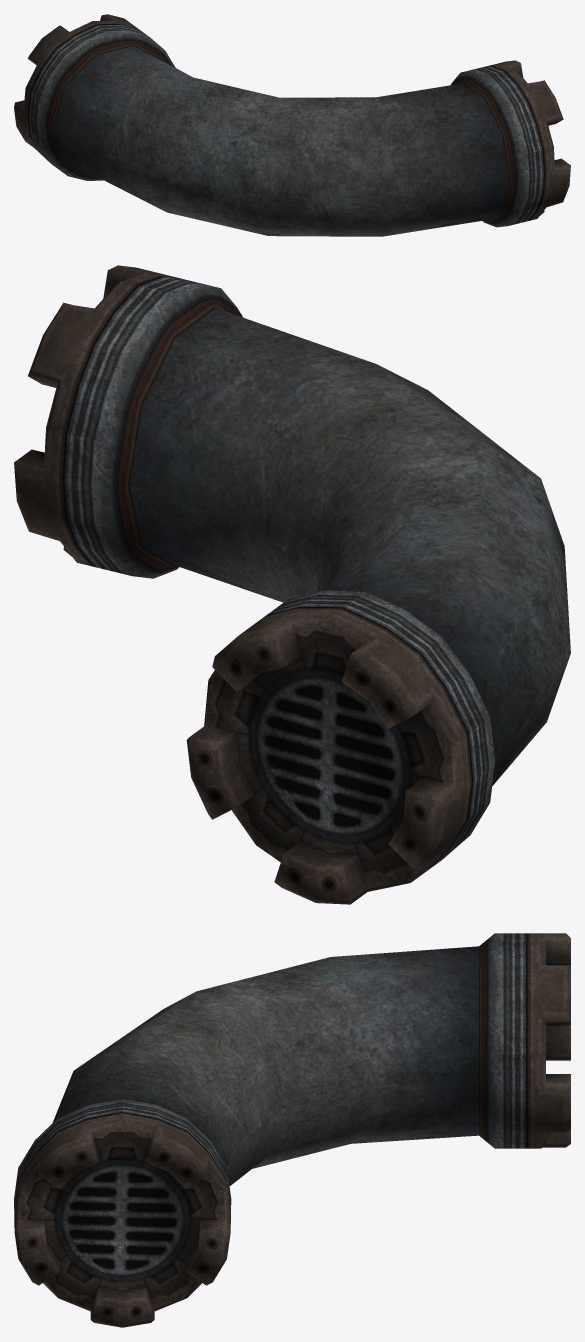
Rendered from tech_brown_bend_long.dae.
The picture shows the model from 3 angles, top to bottom: view 1: azimuth 30°, elevation 25°; view 2: azimuth 150°, elevation 25°; view 3: azimuth 270°, elevation 25°; orthographic projection. The views are drawn at different scales.
Visible parts, largest first — view 1: polySurface791; view 2: polySurface791; view 3: polySurface791.
Boxes of the visible parts, x1,y1,x2,y2 form: polySurface791: [14, 14, 570, 236]; polySurface791: [14, 265, 570, 904]; polySurface791: [14, 933, 570, 1327].
Bounding box in the file's own units: 1.28 × 0.5035 × 1.28.
Materials: 1 (1 with a texture image).
